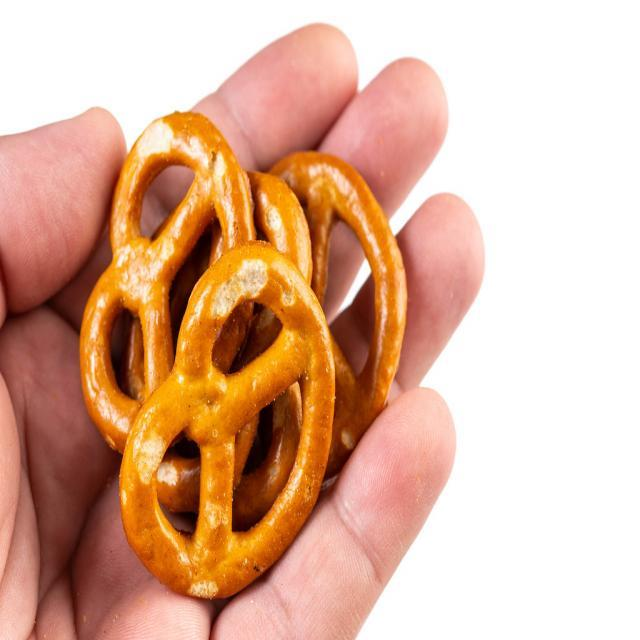Salatini: (75, 110, 411, 590)
